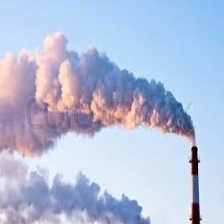smoke: (3, 44, 203, 148)
